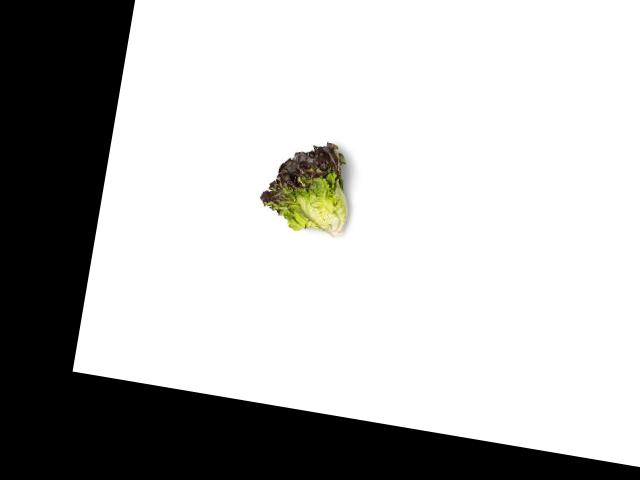lettuce: (257, 127, 360, 242)
